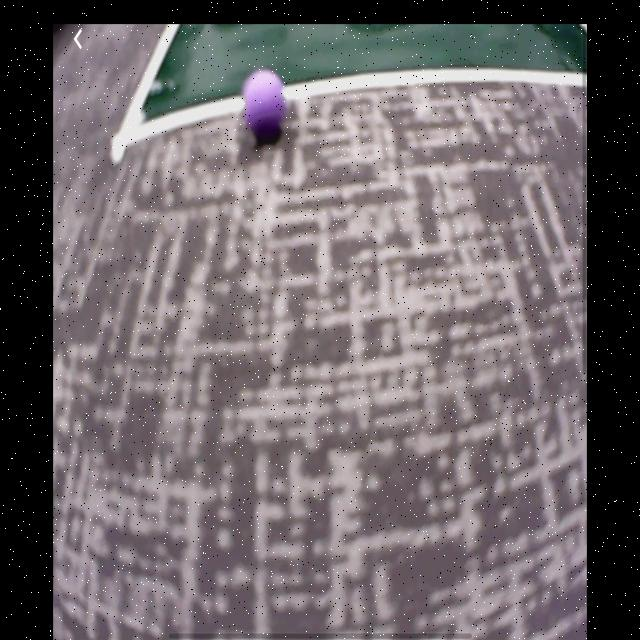ball: (242, 68, 288, 147)
